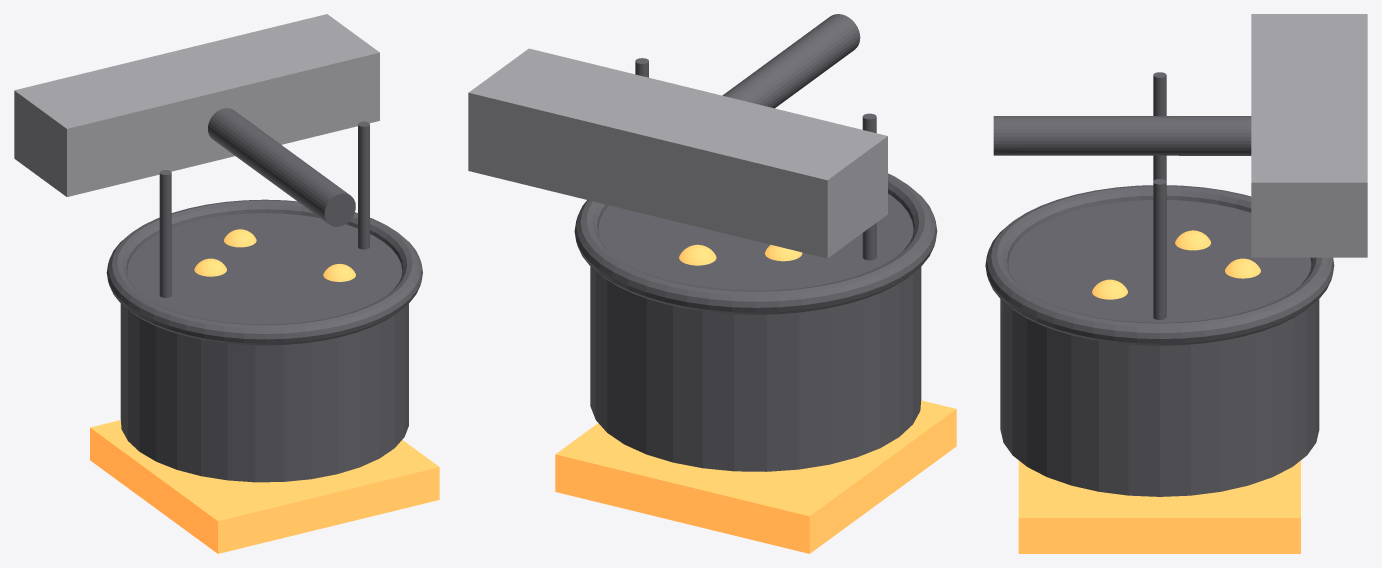
The model's file is pitch_cauldron.glb.
3 views of the same model, side by side, from view 1: azimuth 30°, elevation 25°; view 2: azimuth 150°, elevation 25°; view 3: azimuth 270°, elevation 25° (orthographic). The views are drawn at different scales.
Visible parts, largest first — view 1: Cylinder.003, Cube, Cube.001, Torus, Cylinder, Cylinder.001, Cylinder.002; view 2: Cylinder.003, Cube, Cube.001, Torus, Cylinder, Cylinder.001, Sphere.002; view 3: Cylinder.003, Cube, Cube.001, Torus, Cylinder, Cylinder.002, Cylinder.001, Sphere, Sphere.001, Sphere.002.
Boxes of the visible parts, left/top/right/bottom form: Cylinder.003: left=120, top=213, right=408, bottom=482; Cube: left=14, top=14, right=379, bottom=196; Cube.001: left=90, top=420, right=439, bottom=553; Torus: left=106, top=199, right=422, bottom=345; Cylinder: left=208, top=108, right=355, bottom=226; Cylinder.001: left=159, top=170, right=171, bottom=297; Cylinder.002: left=358, top=121, right=369, bottom=249; Cylinder.003: left=590, top=194, right=921, bottom=471; Cube: left=468, top=48, right=887, bottom=258; Cube.001: left=555, top=400, right=956, bottom=553; Torus: left=574, top=173, right=937, bottom=314; Cylinder: left=722, top=14, right=860, bottom=108; Cylinder.001: left=862, top=113, right=876, bottom=260; Sphere.002: left=679, top=244, right=716, bottom=265; Cylinder.003: left=1000, top=200, right=1319, bottom=496; Cube: left=1251, top=14, right=1367, bottom=257; Cube.001: left=1018, top=460, right=1300, bottom=553; Torus: left=985, top=185, right=1334, bottom=345; Cylinder: left=993, top=116, right=1251, bottom=155; Cylinder.002: left=1153, top=179, right=1166, bottom=319; Cylinder.001: left=1153, top=72, right=1166, bottom=181; Sphere: left=1175, top=230, right=1210, bottom=250; Sphere.001: left=1092, top=279, right=1127, bottom=299; Sphere.002: left=1225, top=258, right=1260, bottom=278.
Bounding box in the file's own units: 1.2 × 1.32 × 1.15.
